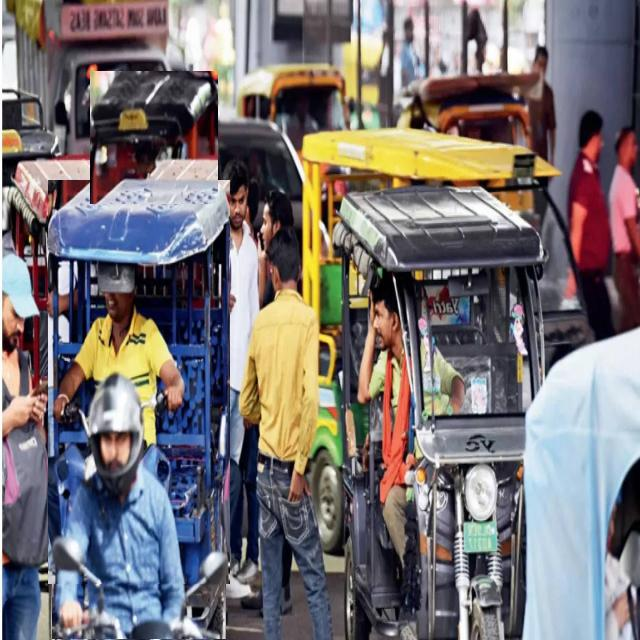autorickshaw: (334, 187, 544, 640), (302, 129, 519, 553), (48, 180, 230, 584), (90, 71, 218, 204), (238, 64, 349, 149)
motorcycle: (52, 374, 225, 640)
